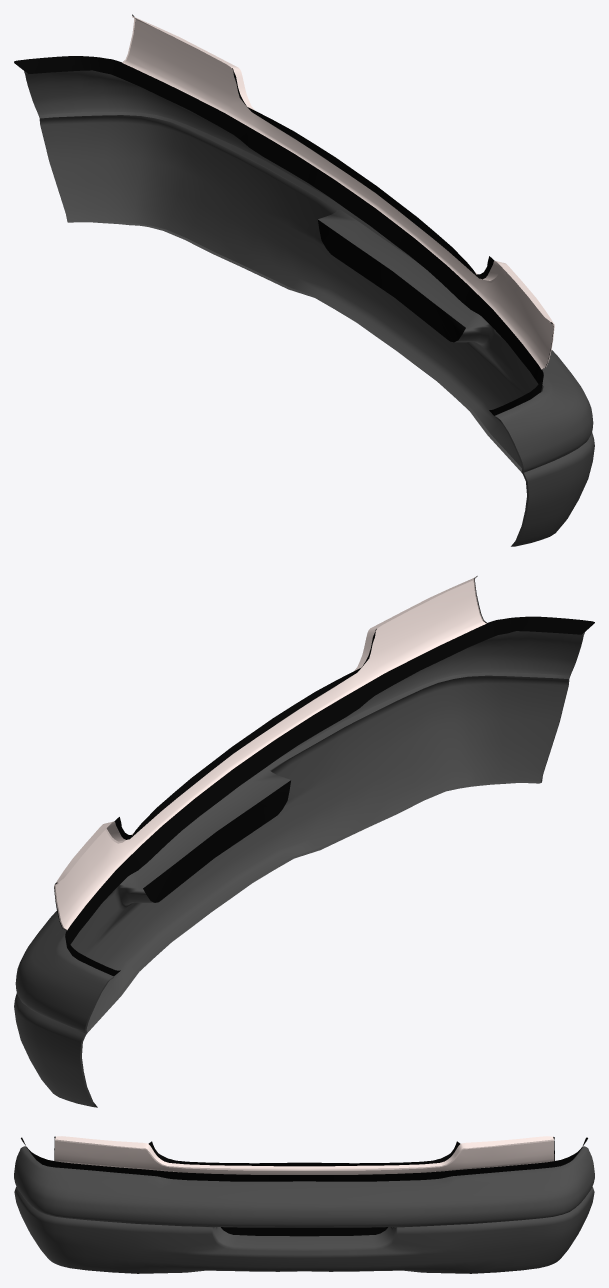
3 renders of one model, top to bottom at view 1: azimuth 30°, elevation 25°; view 2: azimuth 150°, elevation 25°; view 3: azimuth 270°, elevation 25°, orthographic. The views are drawn at different scales.
Visible parts, largest first — view 1: P615_5A_021G_C_P615_5A_021G_C_2_DaS, P615_5A_021G_C_1_DaS_P615_5A_021G_C, P615_5A_021G_C_P615_5A_021G_C_4_D, P615_5A_021G_C_P615_5A_021G_C_2_DaS_E, P615_5A_021G_C_P615_5A_021G_C_3_D; view 2: P615_5A_021G_C_P615_5A_021G_C_2_DaS, P615_5A_021G_C_1_DaS_P615_5A_021G_C, P615_5A_021G_C_P615_5A_021G_C_4_D, P615_5A_021G_C_P615_5A_021G_C_2_DaS_E, P615_5A_021G_C_P615_5A_021G_C_3_D; view 3: P615_5A_021G_C_P615_5A_021G_C_2_DaS, P615_5A_021G_C_1_DaS_P615_5A_021G_C, P615_5A_021G_C_P615_5A_021G_C_4_D, P615_5A_021G_C_P615_5A_021G_C_3_D, P615_5A_021G_C_P615_5A_021G_C_2_DaS_E, P615_5A_021G_C_1_DaS_P615_5A_021G_C_E.
Part boxes in pixels (x1,y1,x2,y2): P615_5A_021G_C_P615_5A_021G_C_2_DaS: [25, 70, 594, 546]; P615_5A_021G_C_1_DaS_P615_5A_021G_C: [123, 16, 553, 369]; P615_5A_021G_C_P615_5A_021G_C_4_D: [14, 14, 553, 415]; P615_5A_021G_C_P615_5A_021G_C_2_DaS_E: [24, 71, 586, 546]; P615_5A_021G_C_P615_5A_021G_C_3_D: [318, 220, 465, 342]; P615_5A_021G_C_P615_5A_021G_C_2_DaS: [14, 631, 583, 1107]; P615_5A_021G_C_1_DaS_P615_5A_021G_C: [55, 577, 485, 929]; P615_5A_021G_C_P615_5A_021G_C_4_D: [54, 576, 594, 976]; P615_5A_021G_C_P615_5A_021G_C_2_DaS_E: [21, 632, 584, 1107]; P615_5A_021G_C_P615_5A_021G_C_3_D: [143, 780, 290, 902]; P615_5A_021G_C_P615_5A_021G_C_2_DaS: [14, 1146, 594, 1273]; P615_5A_021G_C_1_DaS_P615_5A_021G_C: [54, 1136, 554, 1174]; P615_5A_021G_C_P615_5A_021G_C_4_D: [21, 1136, 587, 1181]; P615_5A_021G_C_P615_5A_021G_C_3_D: [221, 1227, 387, 1236]; P615_5A_021G_C_P615_5A_021G_C_2_DaS_E: [25, 1146, 583, 1227]; P615_5A_021G_C_1_DaS_P615_5A_021G_C_E: [54, 1139, 553, 1170].
Size of the model in its own units: 41.66 by 48.64 by 202.
